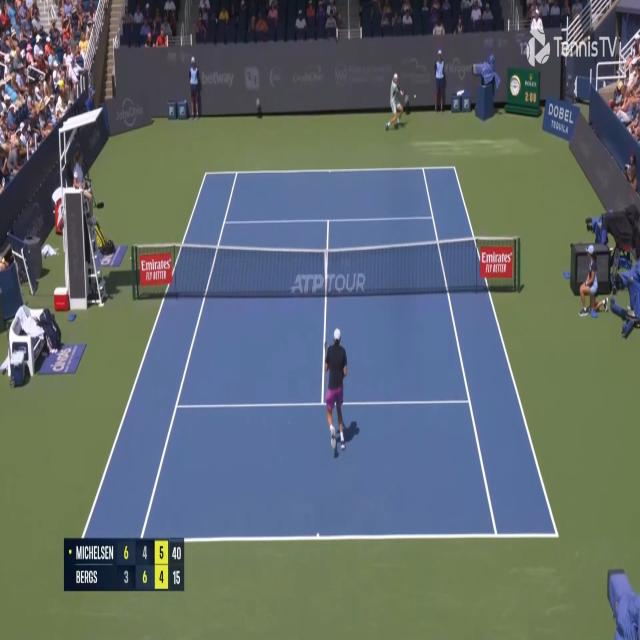tennis-player: (324, 325, 354, 457), (384, 71, 408, 134)
